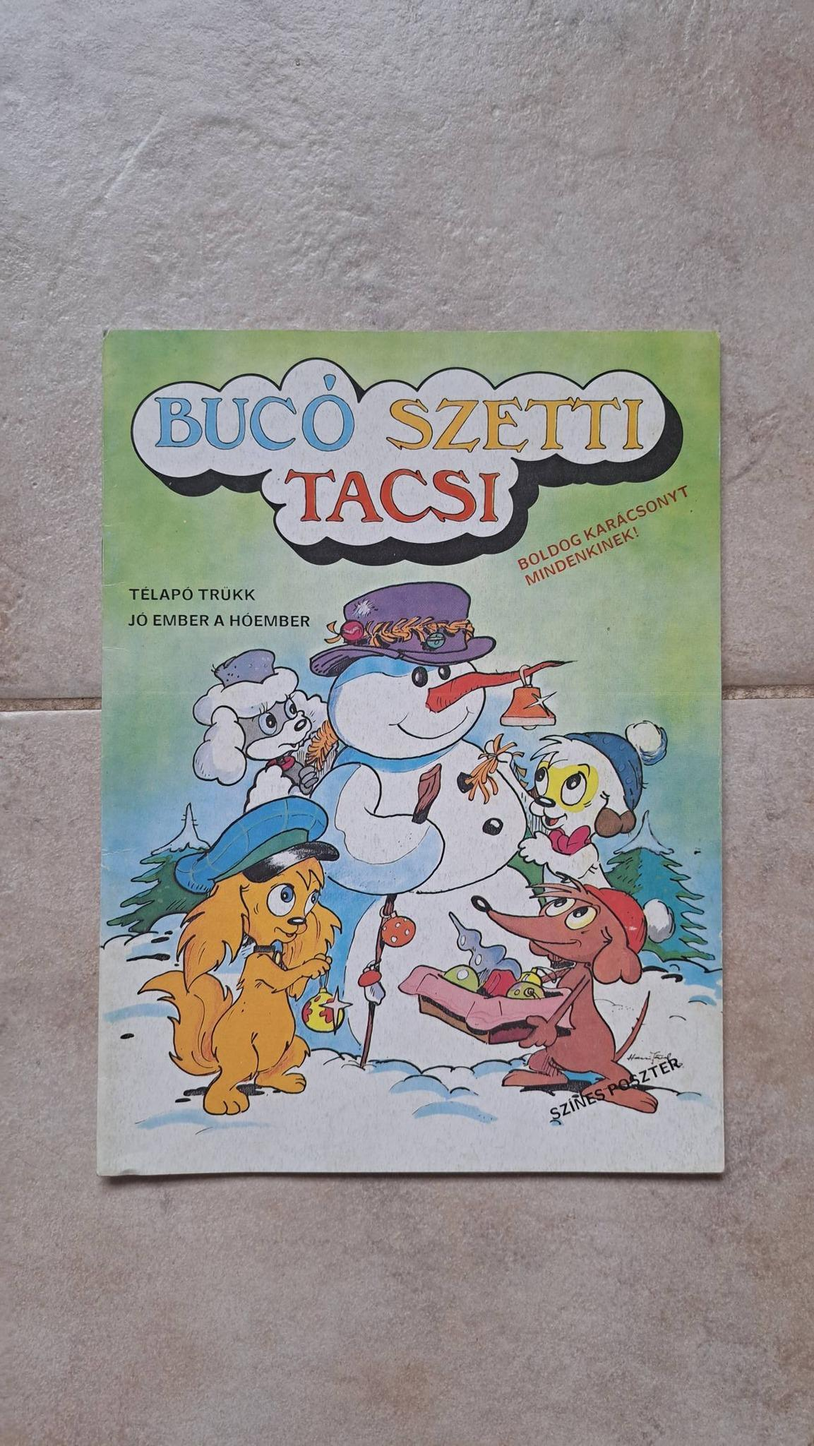comic: (98, 331, 722, 1174)
